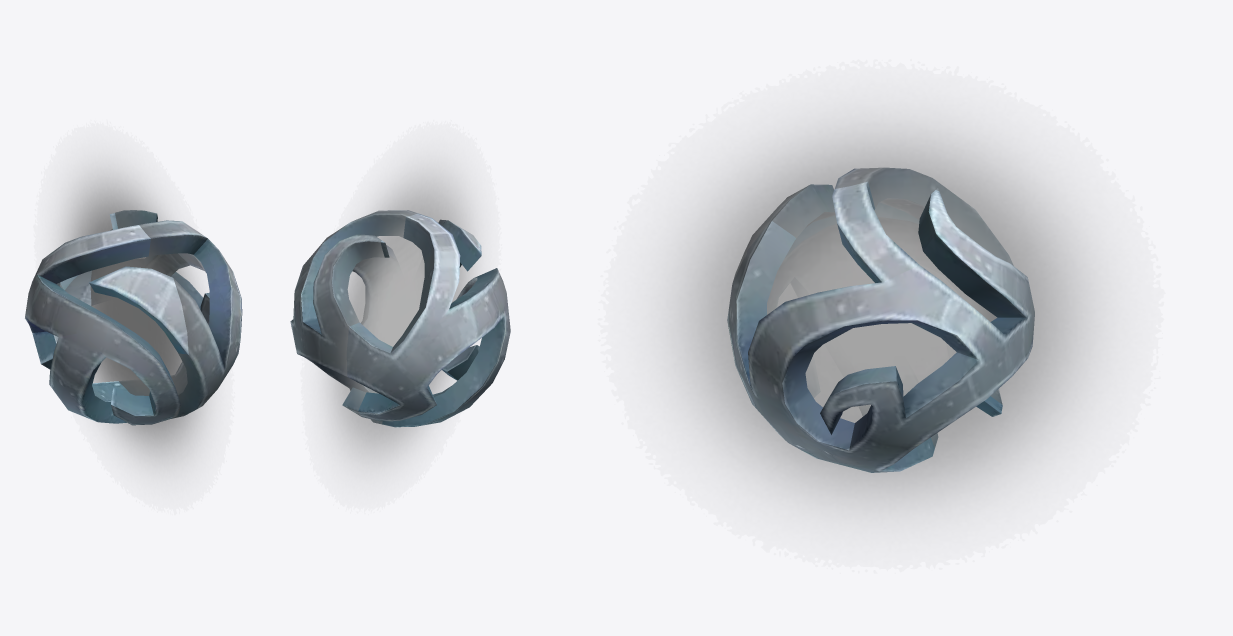
The picture shows the model from 3 angles, left to right: view 1: azimuth 30°, elevation 25°; view 2: azimuth 150°, elevation 25°; view 3: azimuth 270°, elevation 25°; orthographic projection. The views are drawn at different scales.
Size of the model in its own units: 0.7391 by 1.63 by 1.63.
Materials: 2 (2 with a texture image).
